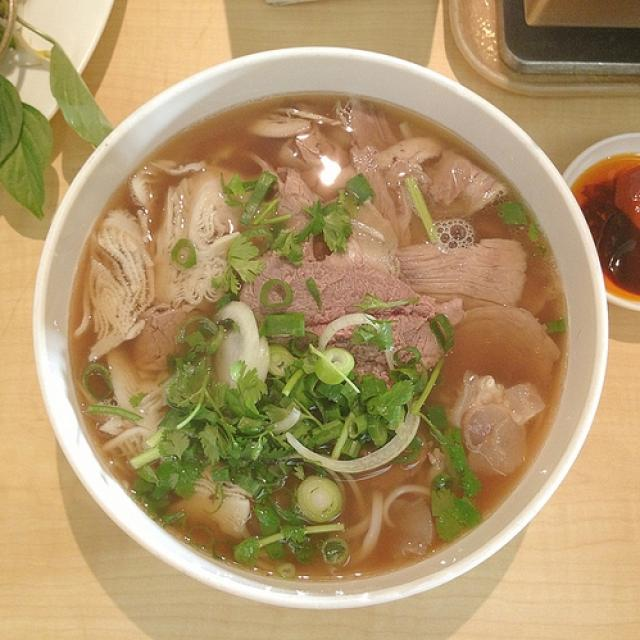面条主食: (26, 44, 585, 610)
